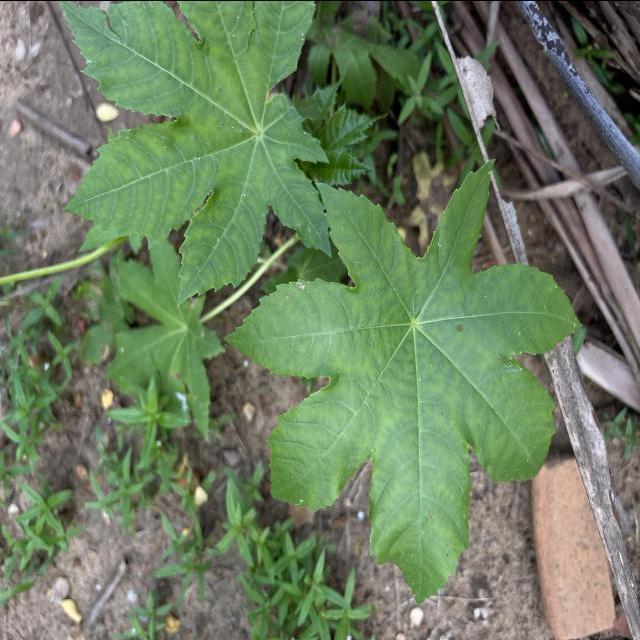Ricinus communis linn: (218, 148, 588, 610)
